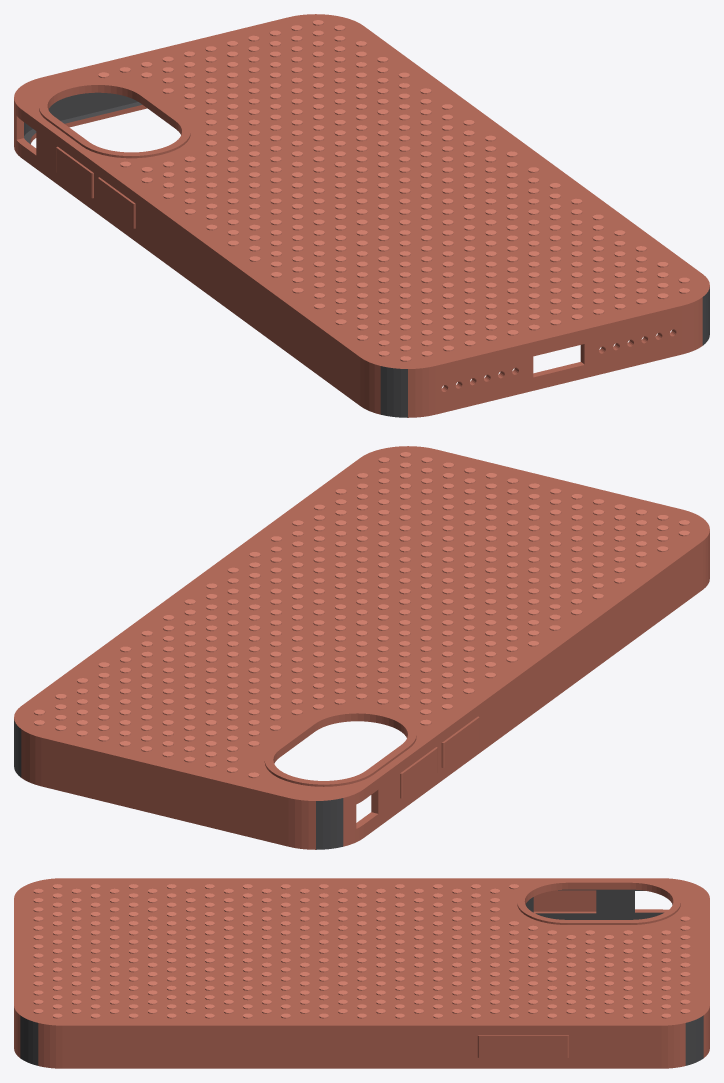
File: kilif-compact-nokta-mercan.glb
3 renders of one model, top to bottom at view 1: azimuth 30°, elevation 25°; view 2: azimuth 150°, elevation 25°; view 3: azimuth 270°, elevation 25°, orthographic. The views are drawn at different scales.
Visible parts, largest first — view 1: Kilif; view 2: Kilif; view 3: Kilif.
Part boxes in pixels (<box>): Kilif: <box>14,14,709,417</box>; Kilif: <box>14,446,709,849</box>; Kilif: <box>14,878,709,1068</box>.
Bounding box in the file's own units: 0.0743 × 0.0105 × 0.1464.
